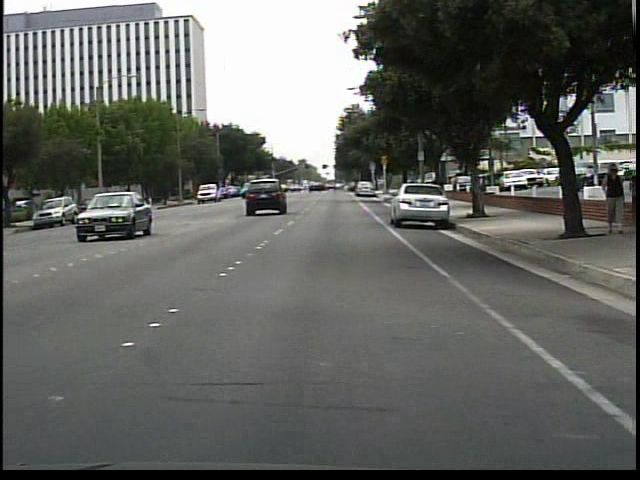person: (594, 158, 622, 238), (615, 159, 635, 234)
